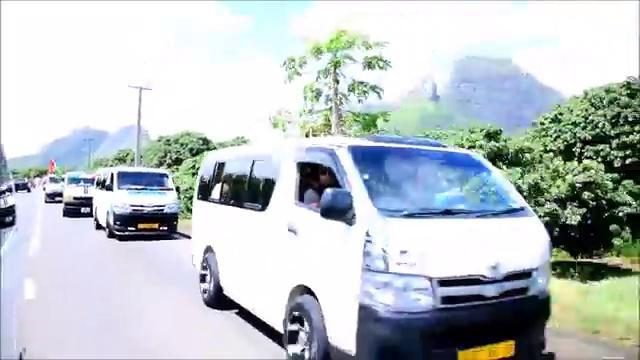van: (190, 141, 557, 360), (95, 165, 182, 239)
